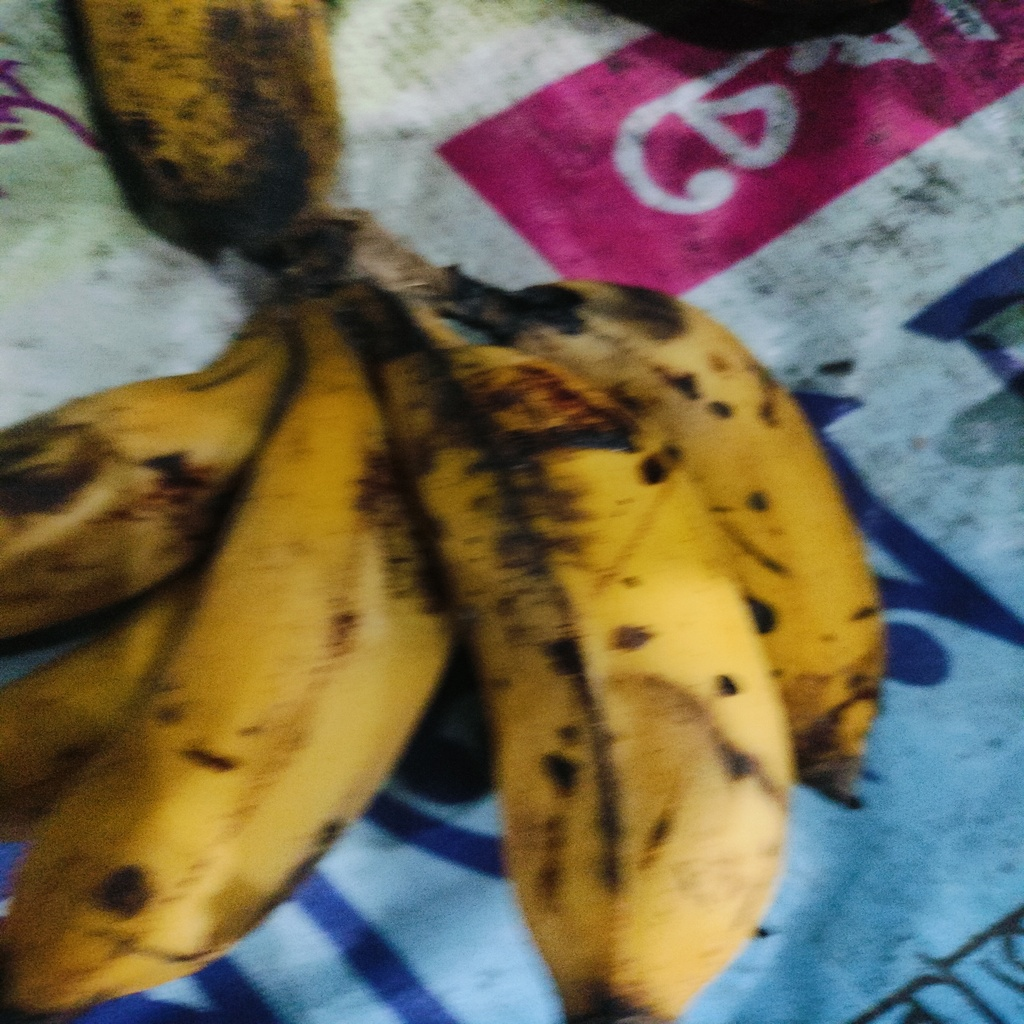unhealthy: (379, 350, 798, 1011)
